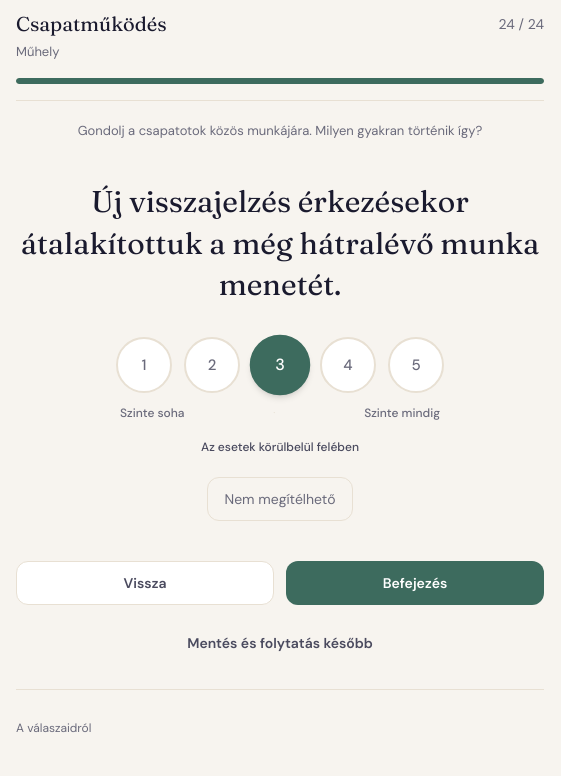
Test: Operating Style participant flow › preserves complete answers after network errors and retries final submission
Click the button "Befejezés".
click(415, 583)  # box x1=286 y1=561 x2=544 y2=605
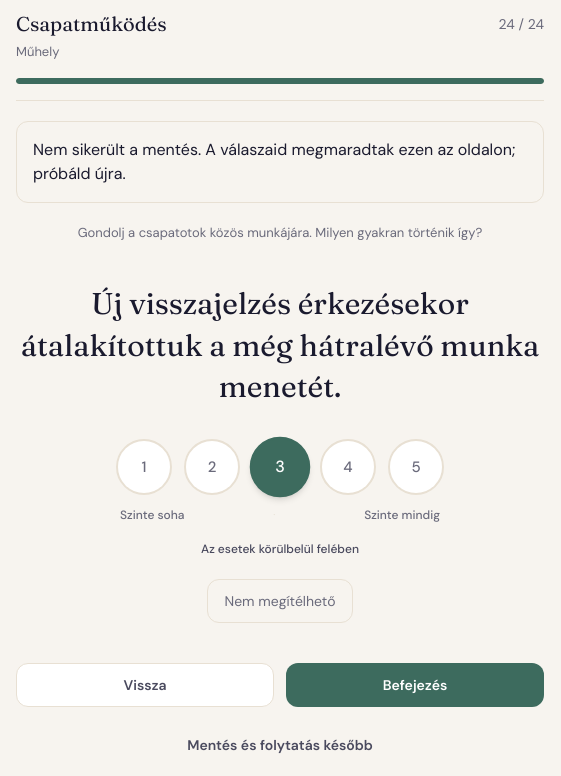
expect the message shows "Nem sikerült": met, box x1=33 y1=139 x2=516 y2=184
Click the button "Befejezés".
click(415, 685)  # box x1=286 y1=663 x2=544 y2=707
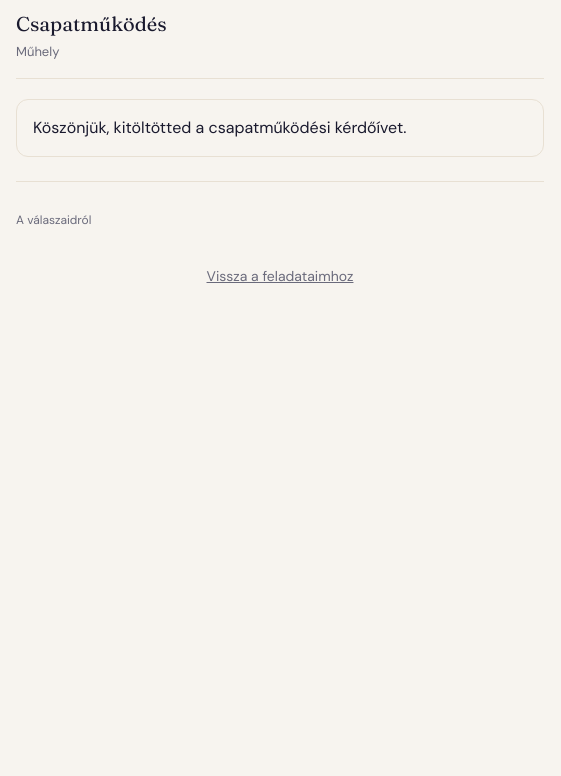
expect the message reads "Köszönjük, kitöltötted a csapatműködési kérdőívet.": met, box x1=33 y1=117 x2=406 y2=138
